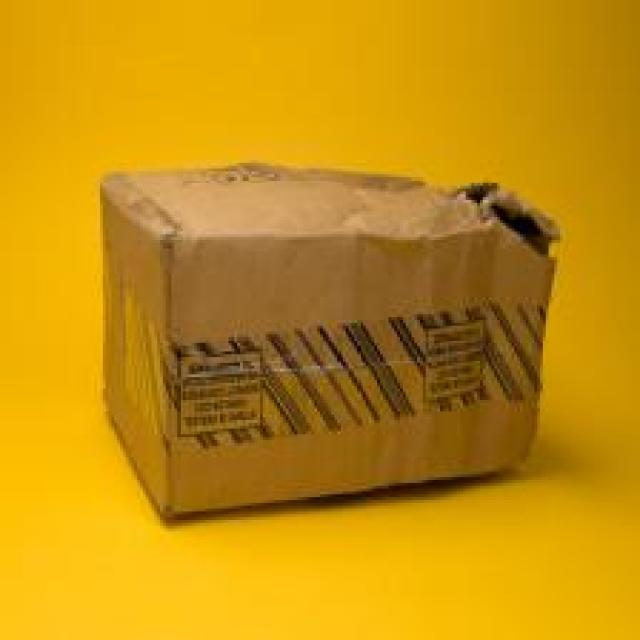crushed: (306, 166, 449, 242)
tear: (452, 185, 566, 263)
